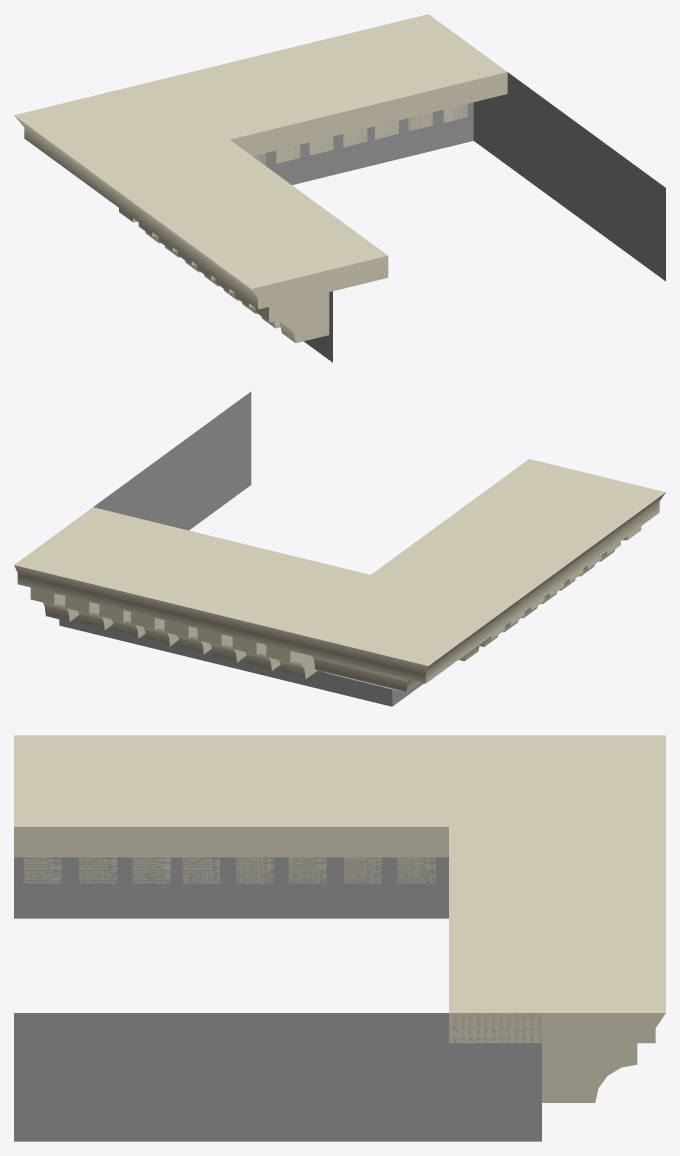
The model's file is Wall_top_trim_right.fbx.
3 views of the same model, one above another, from view 1: azimuth 30°, elevation 25°; view 2: azimuth 150°, elevation 25°; view 3: azimuth 270°, elevation 25° (orthographic). The views are drawn at different scales.
Parts seen in each view (by area): view 1: polySurface29; view 2: polySurface29; view 3: polySurface29.
Boxes of the visible parts, x1,y1,x2,y2 form: polySurface29: (14, 14, 665, 362); polySurface29: (14, 391, 665, 706); polySurface29: (14, 735, 665, 1141).
Size of the model in its own units: 498 by 107 by 494.
